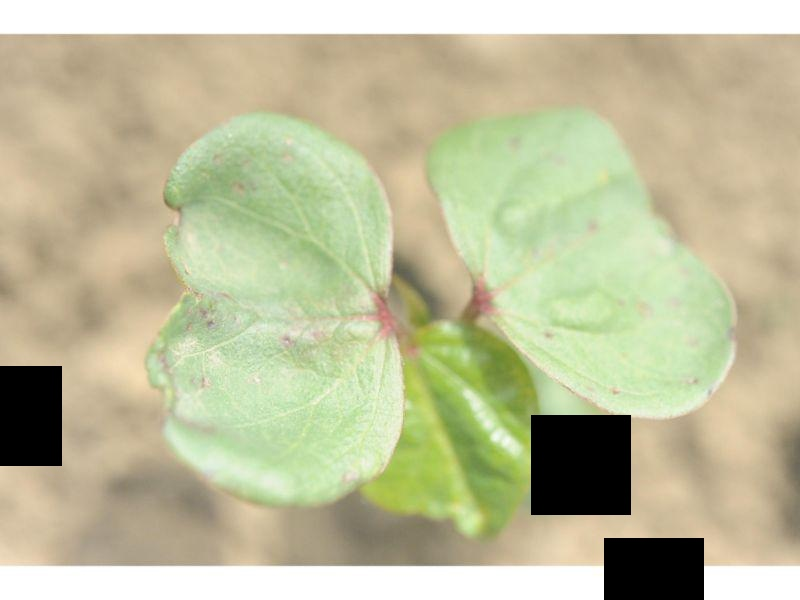cotton: (146, 105, 736, 540)
